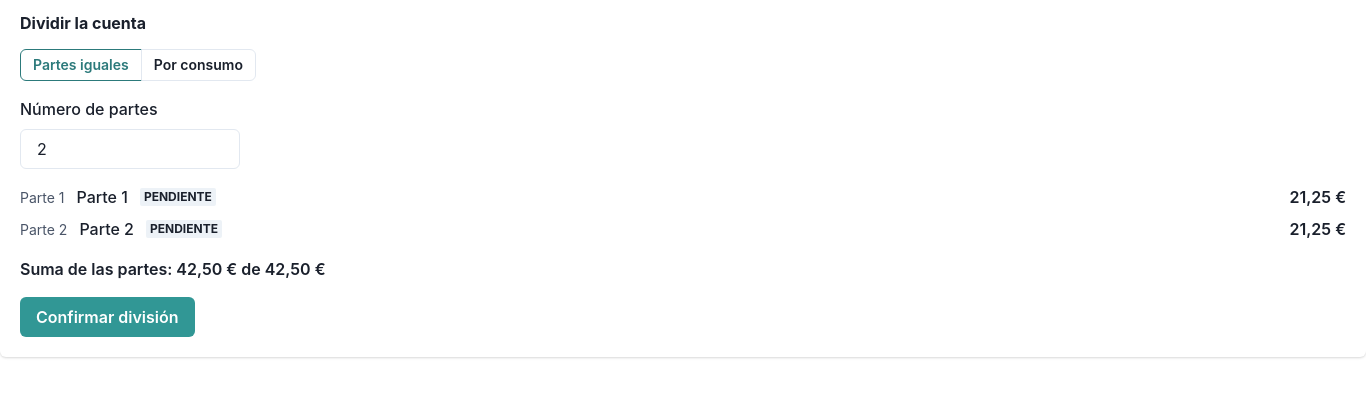
Test: DivisionCuenta › reparte en partes iguales al céntimo y muestra la suma
Expected: the text "21,25 €" is shown 2 times, [1290,185,1346,209]; [1290,217,1346,241]
Expected: the text "Suma de las partes: 42,50 € de 42,50 €" is shown, [20,259,326,279]
Replace the text in the number field labelled "Número de partes" with "3" at (130, 149), box [20,129,240,169]
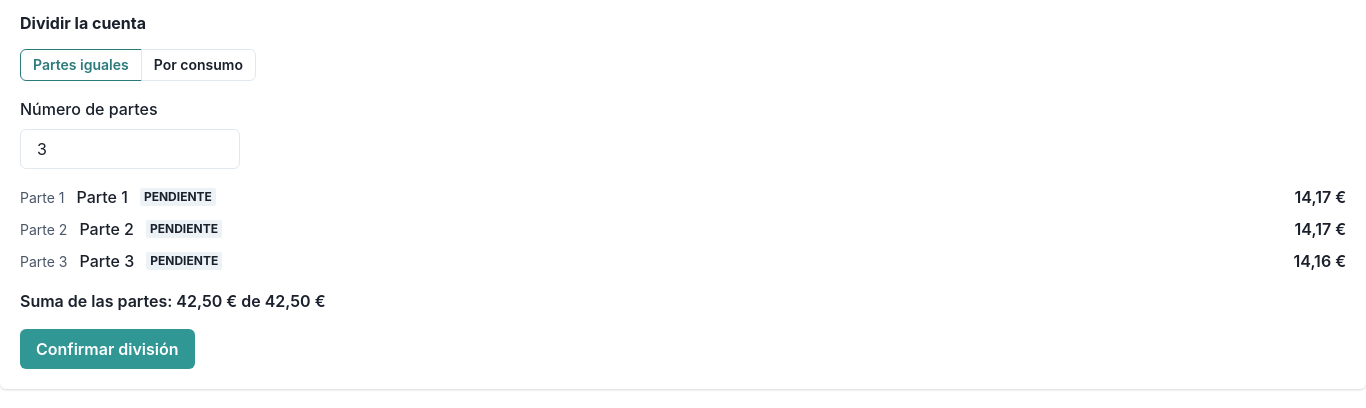
Expected: the text "Suma de las partes: 42,50 € de 42,50 €" is shown, [20,291,326,311]
Expected: the text "14,17 €" is shown 2 times, [1295,185,1346,209]; [1295,217,1346,241]
Expected: the text "14,16 €" is shown, [1294,249,1346,273]
